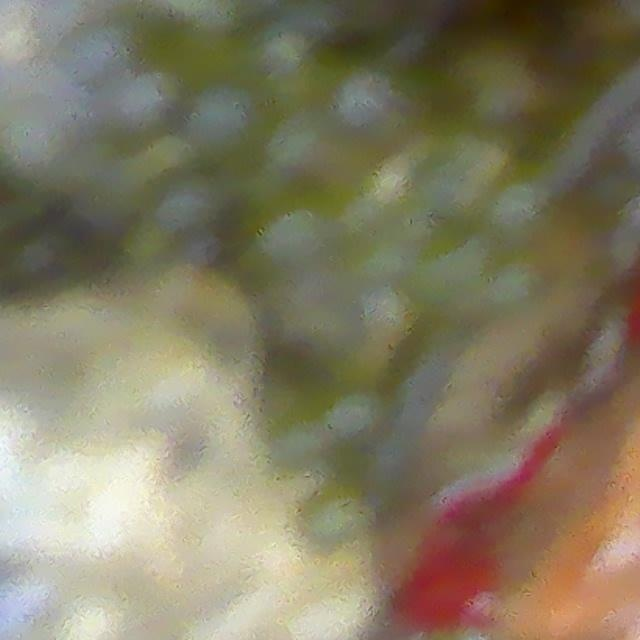SeaGrape: (301, 486, 373, 555), (187, 83, 255, 154)
